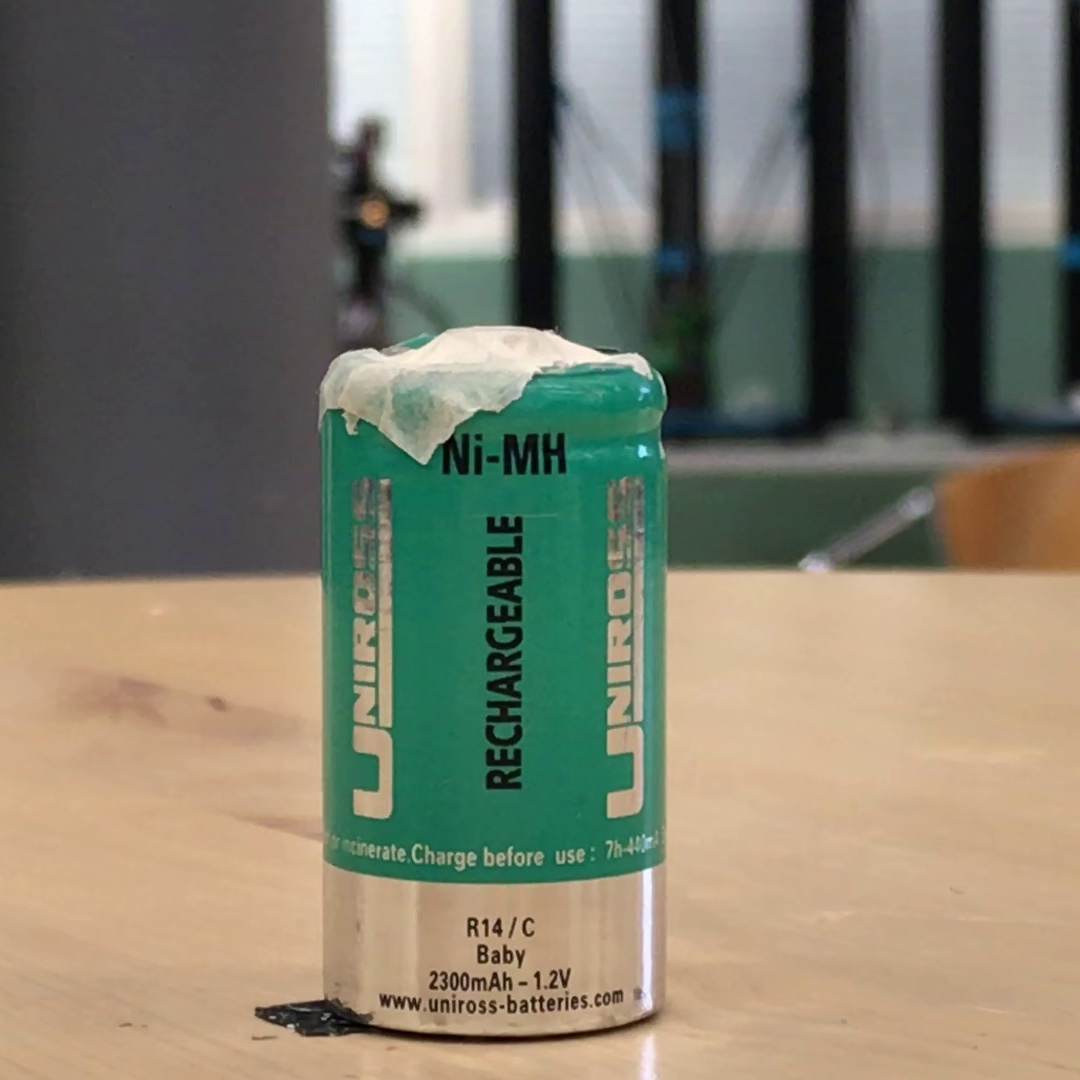keyword: (524, 958, 581, 1000)
